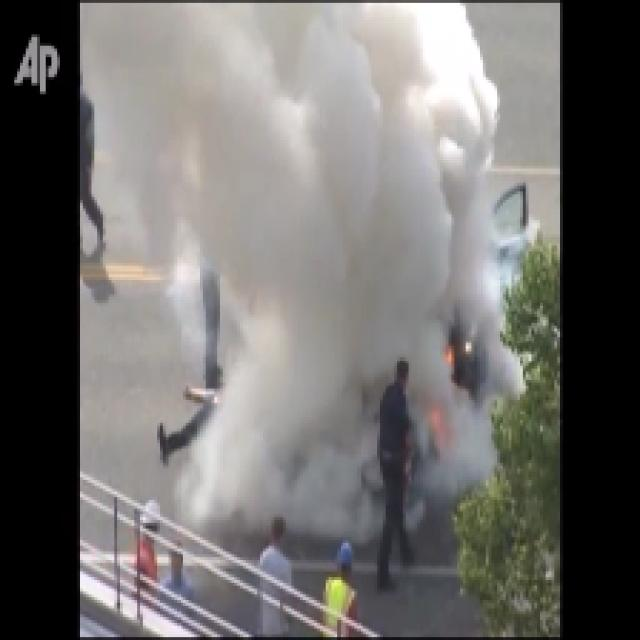smoke: (144, 3, 495, 526)
